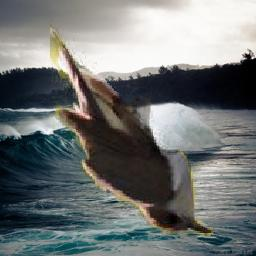Cuckoo: (51, 19, 214, 237)
